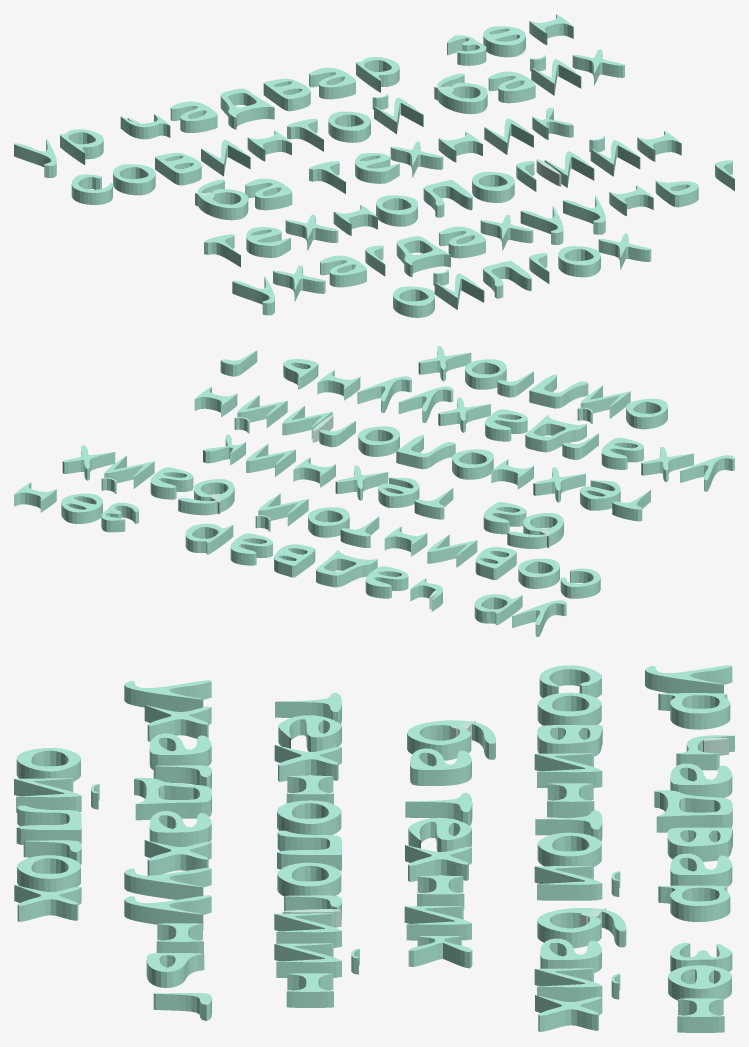
The picture shows the model from 3 angles, top to bottom: view 1: azimuth 30°, elevation 25°; view 2: azimuth 150°, elevation 25°; view 3: azimuth 270°, elevation 25°; orthographic projection. The views are drawn at different scales.
Parts seen in each view (by area): view 1: imagetostl_mesh; view 2: imagetostl_mesh; view 3: imagetostl_mesh.
Boxes of the visible parts, x1=… form: imagetostl_mesh: x1=14, y1=14, x2=734, y2=317; imagetostl_mesh: x1=14, y1=346, x2=734, y2=636; imagetostl_mesh: x1=14, y1=665, x2=734, y2=1032.
Size of the model in its own units: 93.81 by 2 by 81.23.
